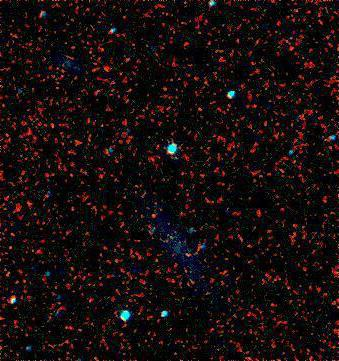star: (137, 201, 167, 231)
